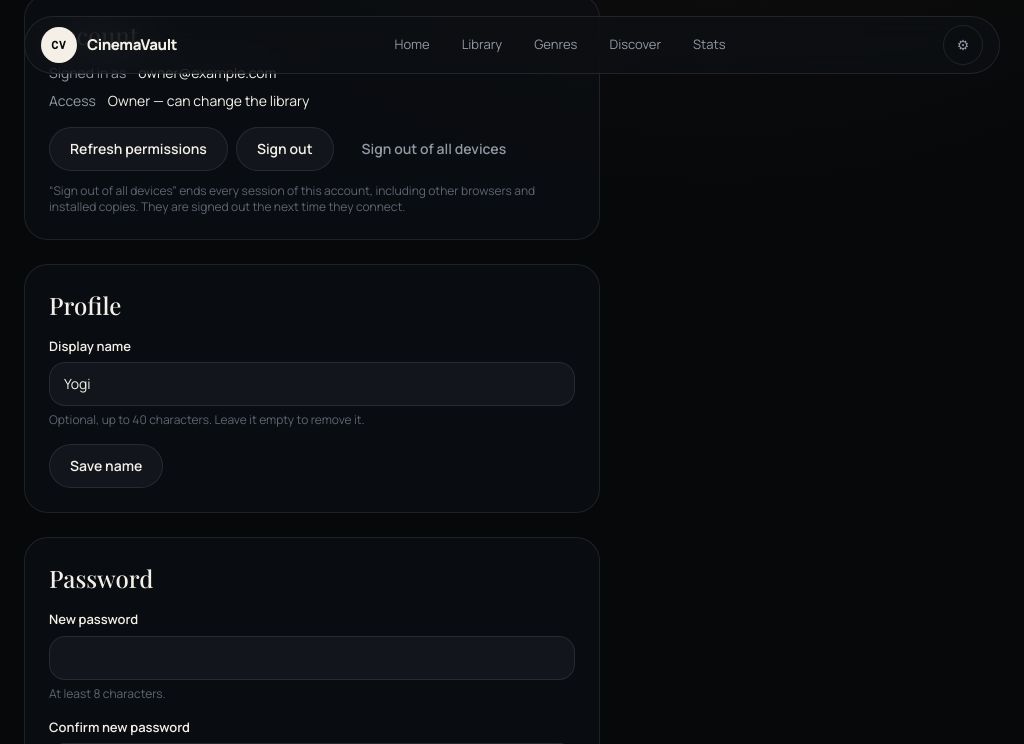
Test: profile › removes the name when the field is emptied
(page scrolled)
Clear the field labelled "Display name": {"x": 312, "y": 384} [49,362,575,406]
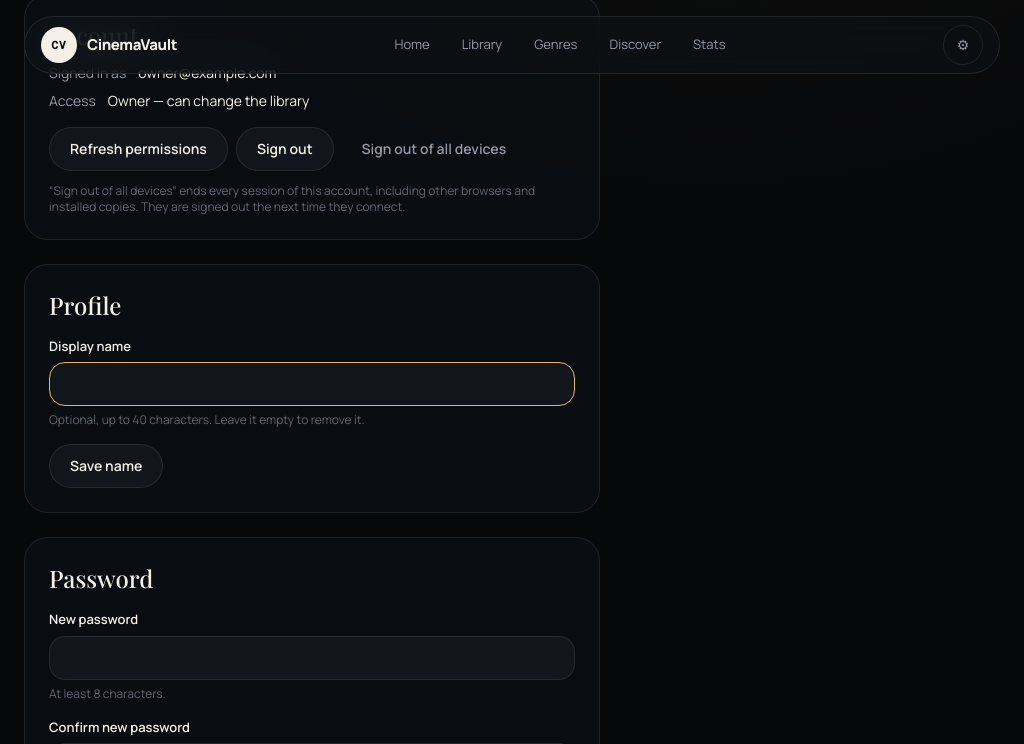
Click the button "Save name": {"x": 106, "y": 466} [49,444,163,488]
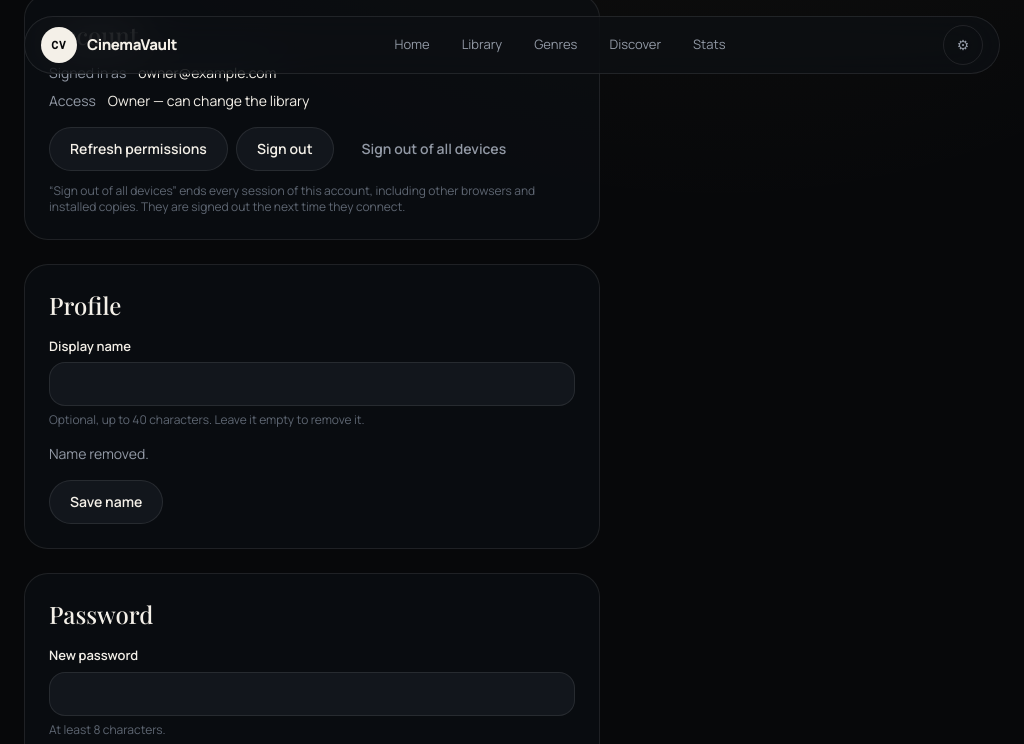
Result: the text "Name removed." is shown at [49,444,149,463]
